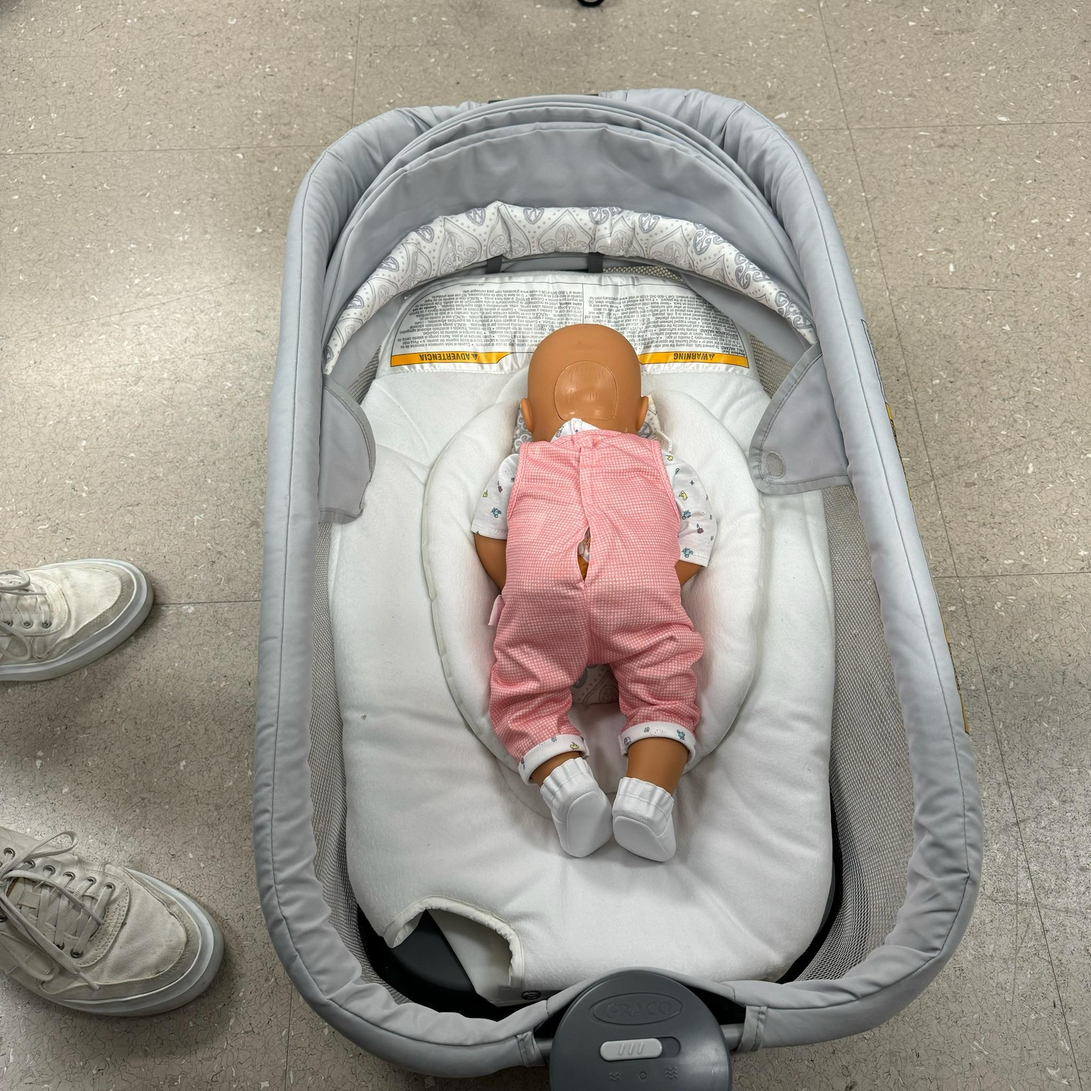baby: (455, 304, 751, 875)
